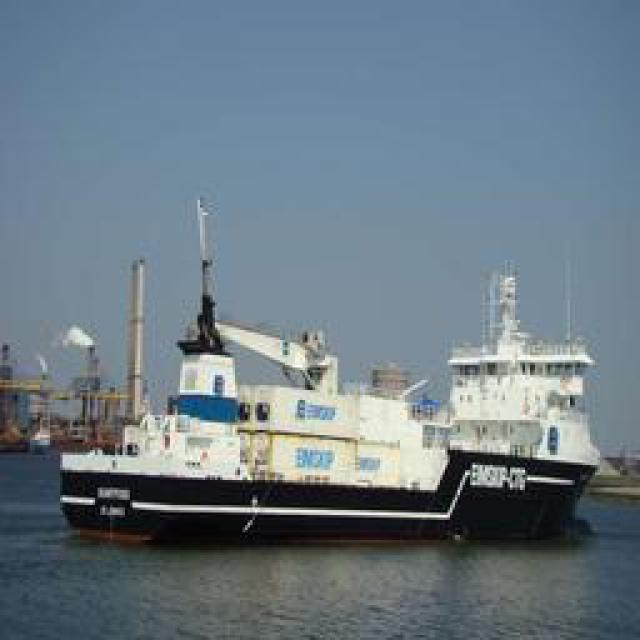Ship: (56, 190, 604, 535)
